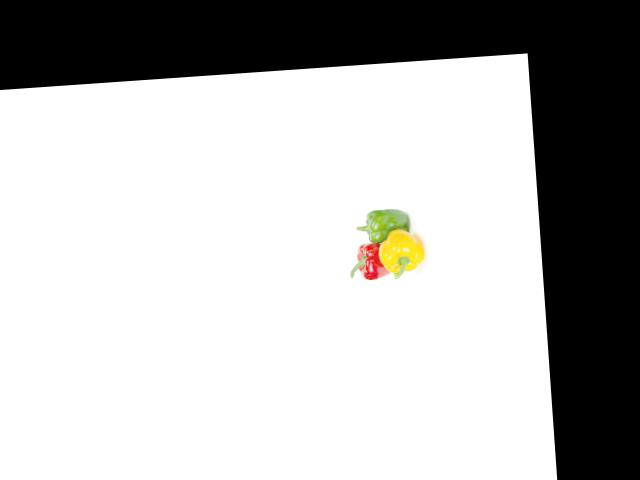bell_pepper: (343, 235, 396, 287)
